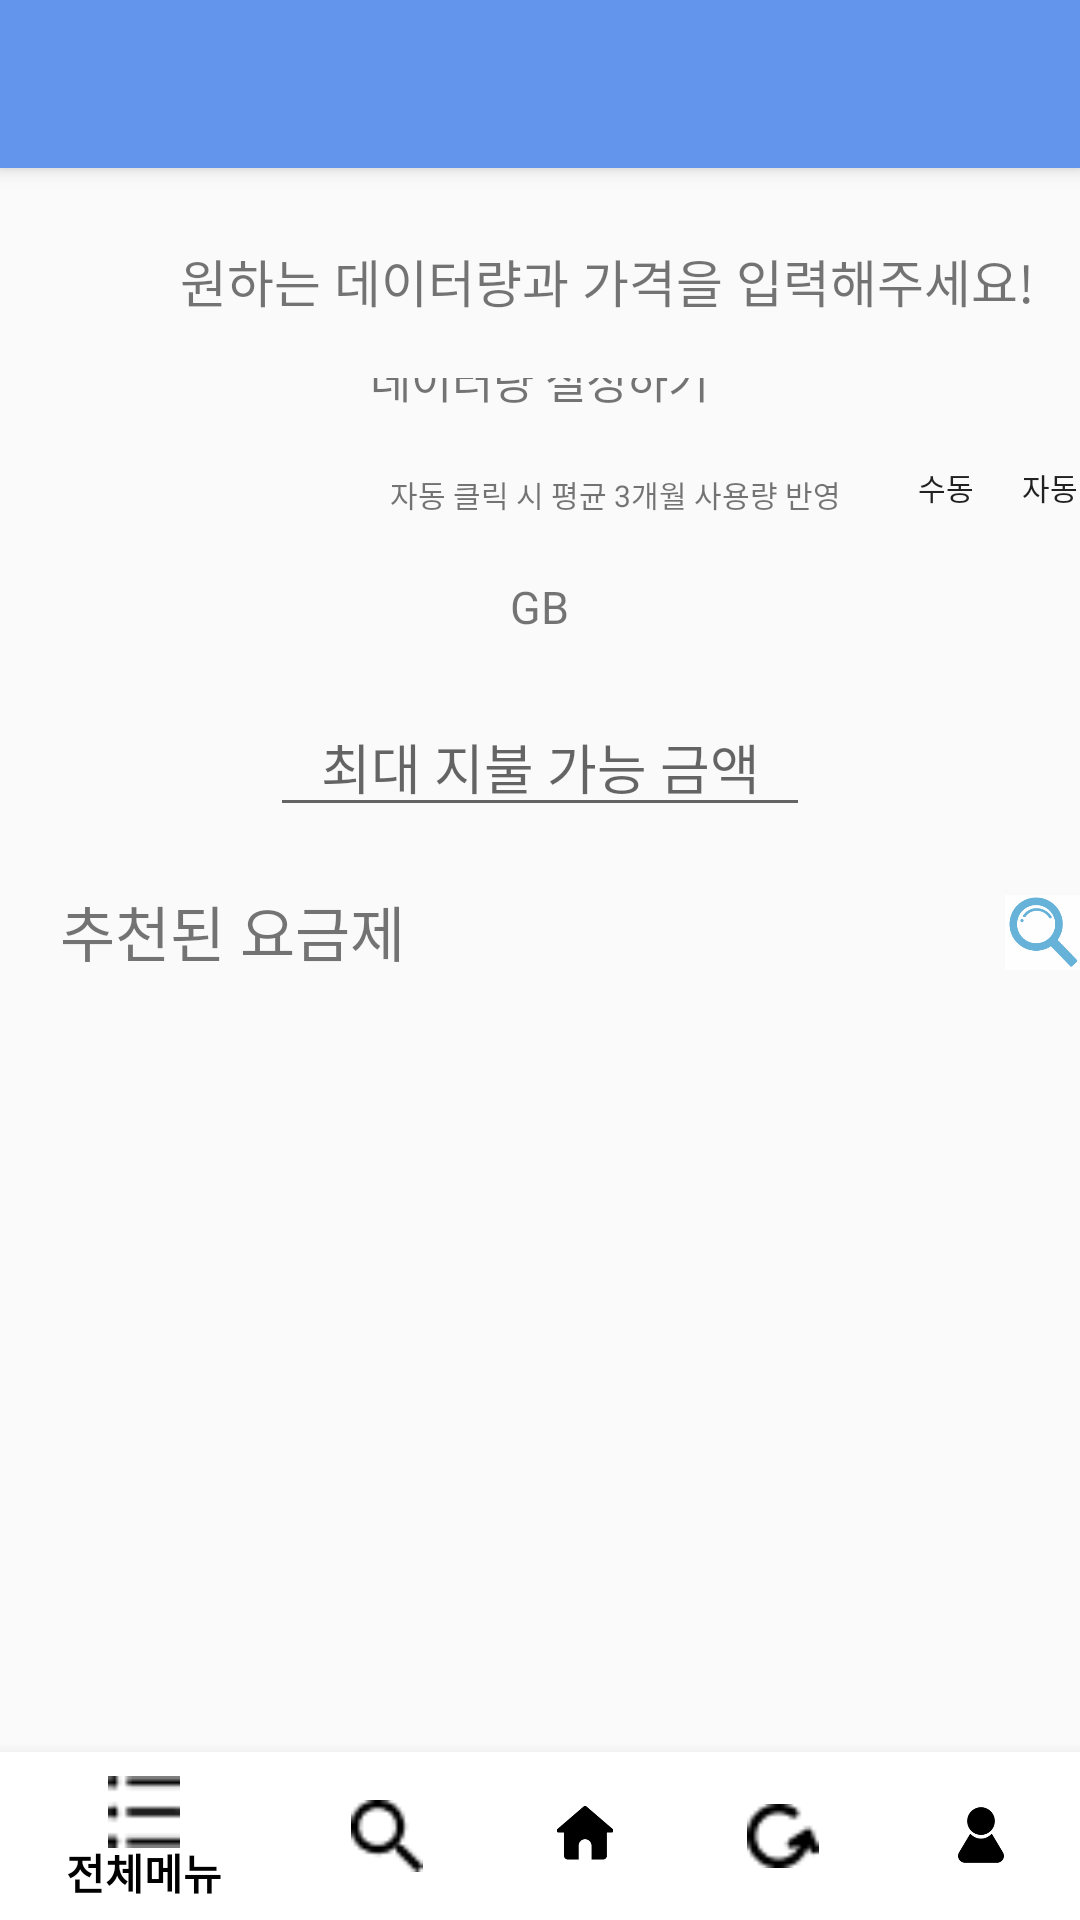

Icon bounding boxes for this 1080 × 1920 phone screenshot, format (x1, y1, x2, y2):
finder: (1009, 897, 1077, 967)
